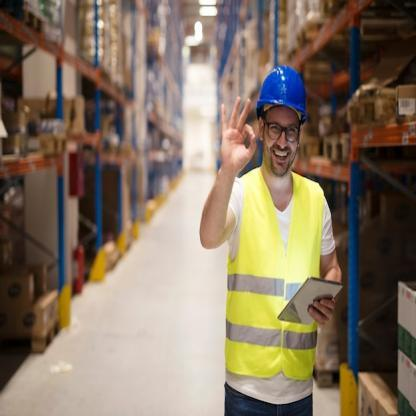ok: (219, 92, 257, 178)
